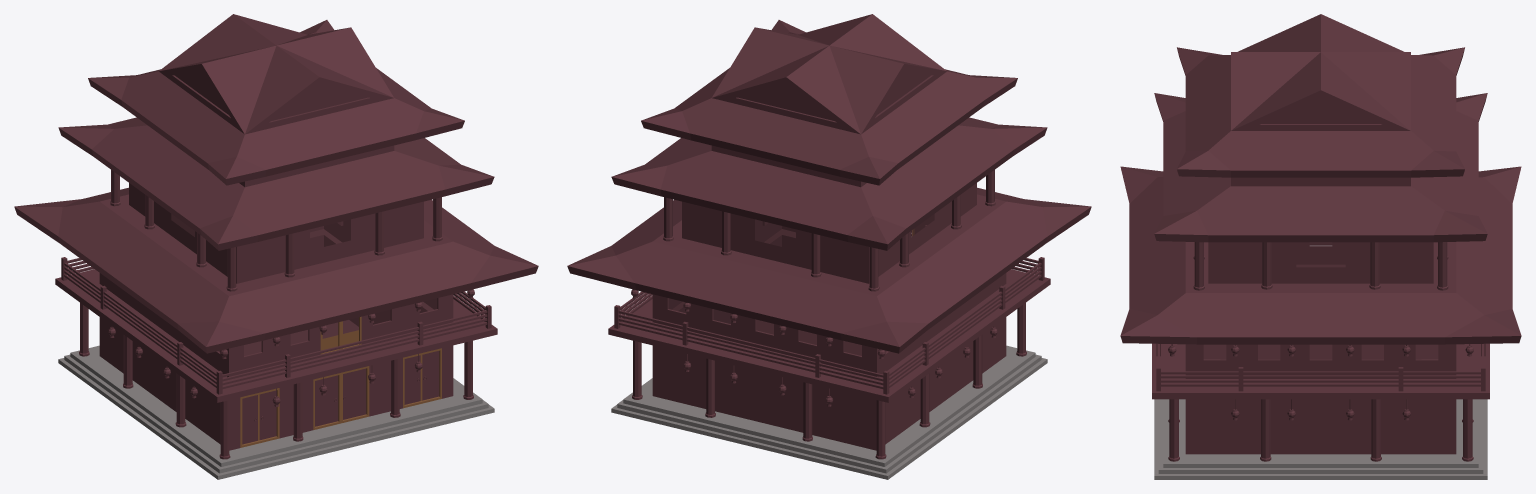
The model's file is building-temple-china.fbx.
The picture shows the model from 3 angles, left to right: view 1: azimuth 30°, elevation 25°; view 2: azimuth 150°, elevation 25°; view 3: azimuth 270°, elevation 25°; orthographic projection. The views are drawn at different scales.
Parts seen in each view (by area): view 1: building-temple-china; view 2: building-temple-china; view 3: building-temple-china.
Boxes of the visible parts, x1=… form: building-temple-china: x1=14, y1=14, x2=538, y2=479; building-temple-china: x1=567, y1=14, x2=1091, y2=479; building-temple-china: x1=1120, y1=14, x2=1521, y2=479.
Size of the model in its own units: 17.8 by 17.5 by 17.8.
